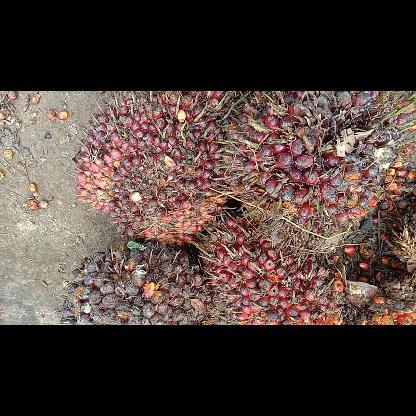Kurang masak: (56, 236, 218, 324)
TBS masak: (215, 91, 415, 237), (72, 91, 238, 247), (196, 214, 348, 324)
